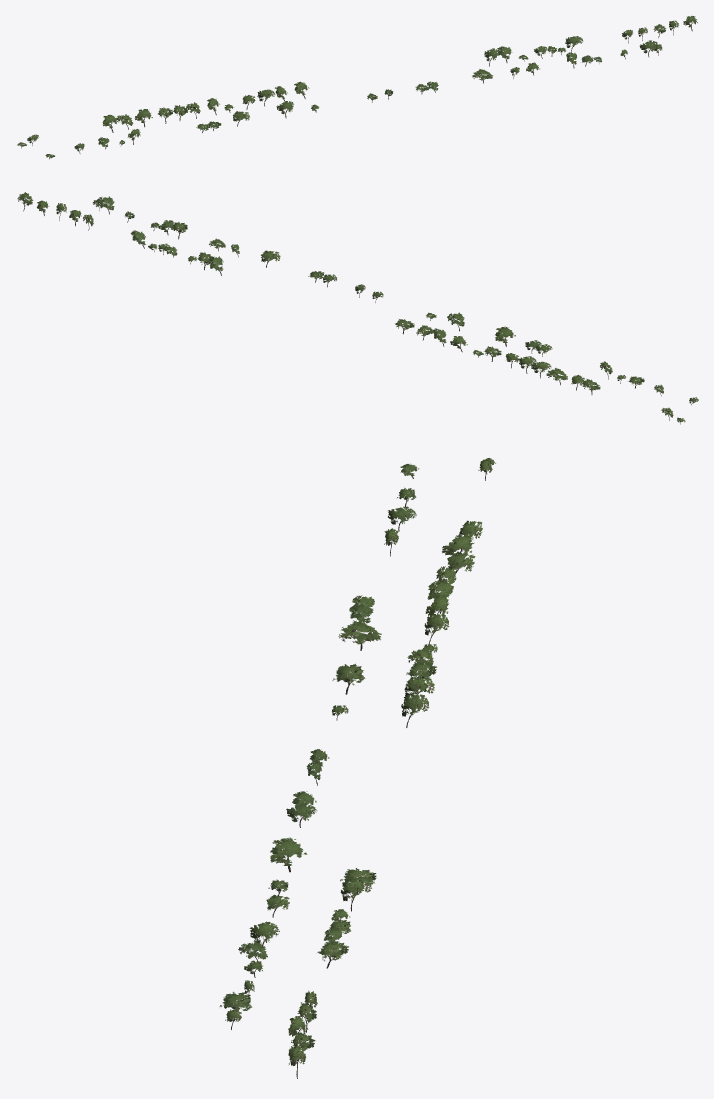
The picture shows the model from 3 angles, top to bottom: view 1: azimuth 30°, elevation 25°; view 2: azimuth 150°, elevation 25°; view 3: azimuth 270°, elevation 25°; orthographic projection. The views are drawn at different scales.
Visible parts, largest first — view 1: Marina Boulevard Sindora crowns, Marina Boulevard Sindora bark; view 2: Marina Boulevard Sindora crowns, Marina Boulevard Sindora bark; view 3: Marina Boulevard Sindora crowns.
Part boxes in pixels (x1=…): Marina Boulevard Sindora crowns: x1=17, y1=16, x2=697, y2=158; Marina Boulevard Sindora bark: x1=21, y1=22, x2=693, y2=159; Marina Boulevard Sindora crowns: x1=17, y1=192, x2=698, y2=422; Marina Boulevard Sindora bark: x1=23, y1=198, x2=692, y2=424; Marina Boulevard Sindora crowns: x1=219, y1=458, x2=495, y2=1065.
Size of the model in its own units: 487 by 11.3 by 93.75.
2 materials, 2 textured.
